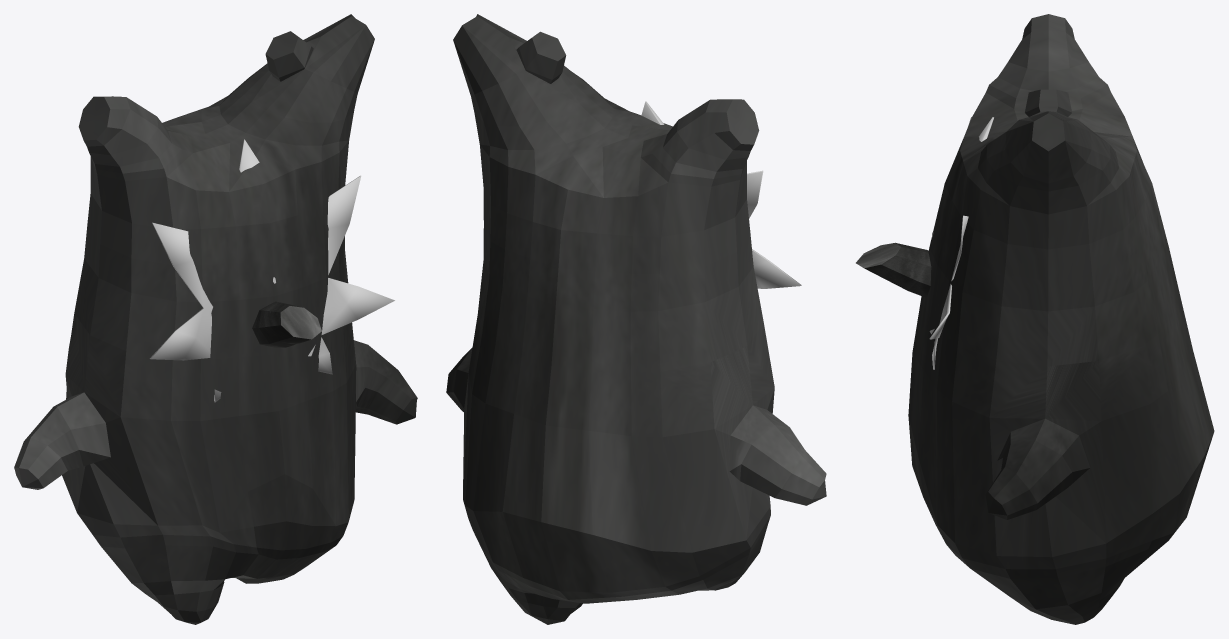
The model's file is frame_0009.obj.
3 renders of one model, left to right at view 1: azimuth 30°, elevation 25°; view 2: azimuth 150°, elevation 25°; view 3: azimuth 270°, elevation 25°, orthographic. The views are drawn at different scales.
Parts seen in each view (by area): view 1: korok, leaf, nose; view 2: korok, leaf; view 3: korok, nose, leaf.
Boxes of the visible parts, x1,y1,x2,y2 form: korok: (14,14,417,624); leaf: (150,139,394,402); nose: (252,301,321,347); korok: (446,14,826,624); leaf: (641,101,801,288); korok: (908,14,1214,624); nose: (856,242,931,297); leaf: (929,117,993,369).
Bounding box in the file's own units: 1.62 × 2.28 × 1.35.
